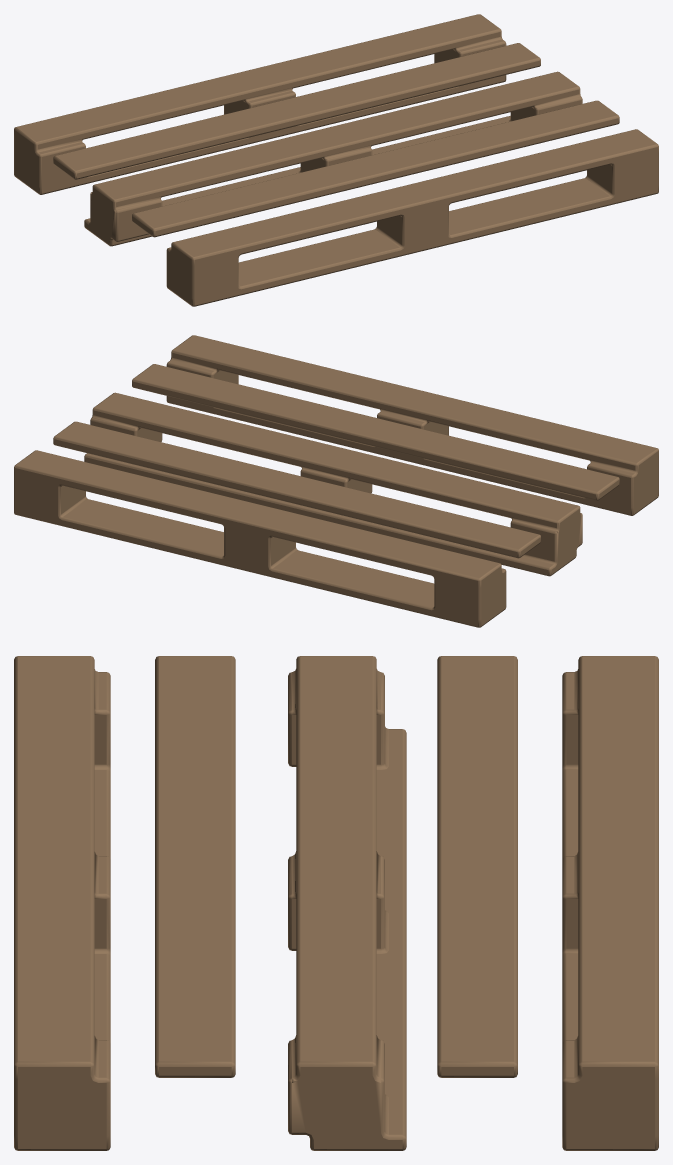
Rendered from SM_Pallet.fbx.
3 renders of one model, top to bottom at view 1: azimuth 30°, elevation 25°; view 2: azimuth 150°, elevation 25°; view 3: azimuth 270°, elevation 25°, orthographic. The views are drawn at different scales.
Parts seen in each view (by area): view 1: SM_Pallet; view 2: SM_Pallet; view 3: SM_Pallet.
Part boxes in pixels (x1=…): SM_Pallet: x1=14, y1=14, x2=658, y2=306; SM_Pallet: x1=14, y1=335, x2=658, y2=627; SM_Pallet: x1=14, y1=656, x2=658, y2=1150.
Bounding box in the file's own units: 120 × 12.2 × 80.
